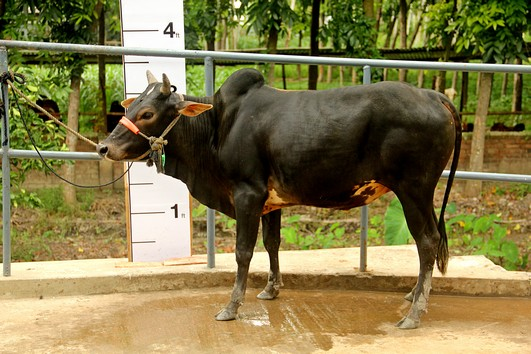cow: (96, 65, 469, 335)
